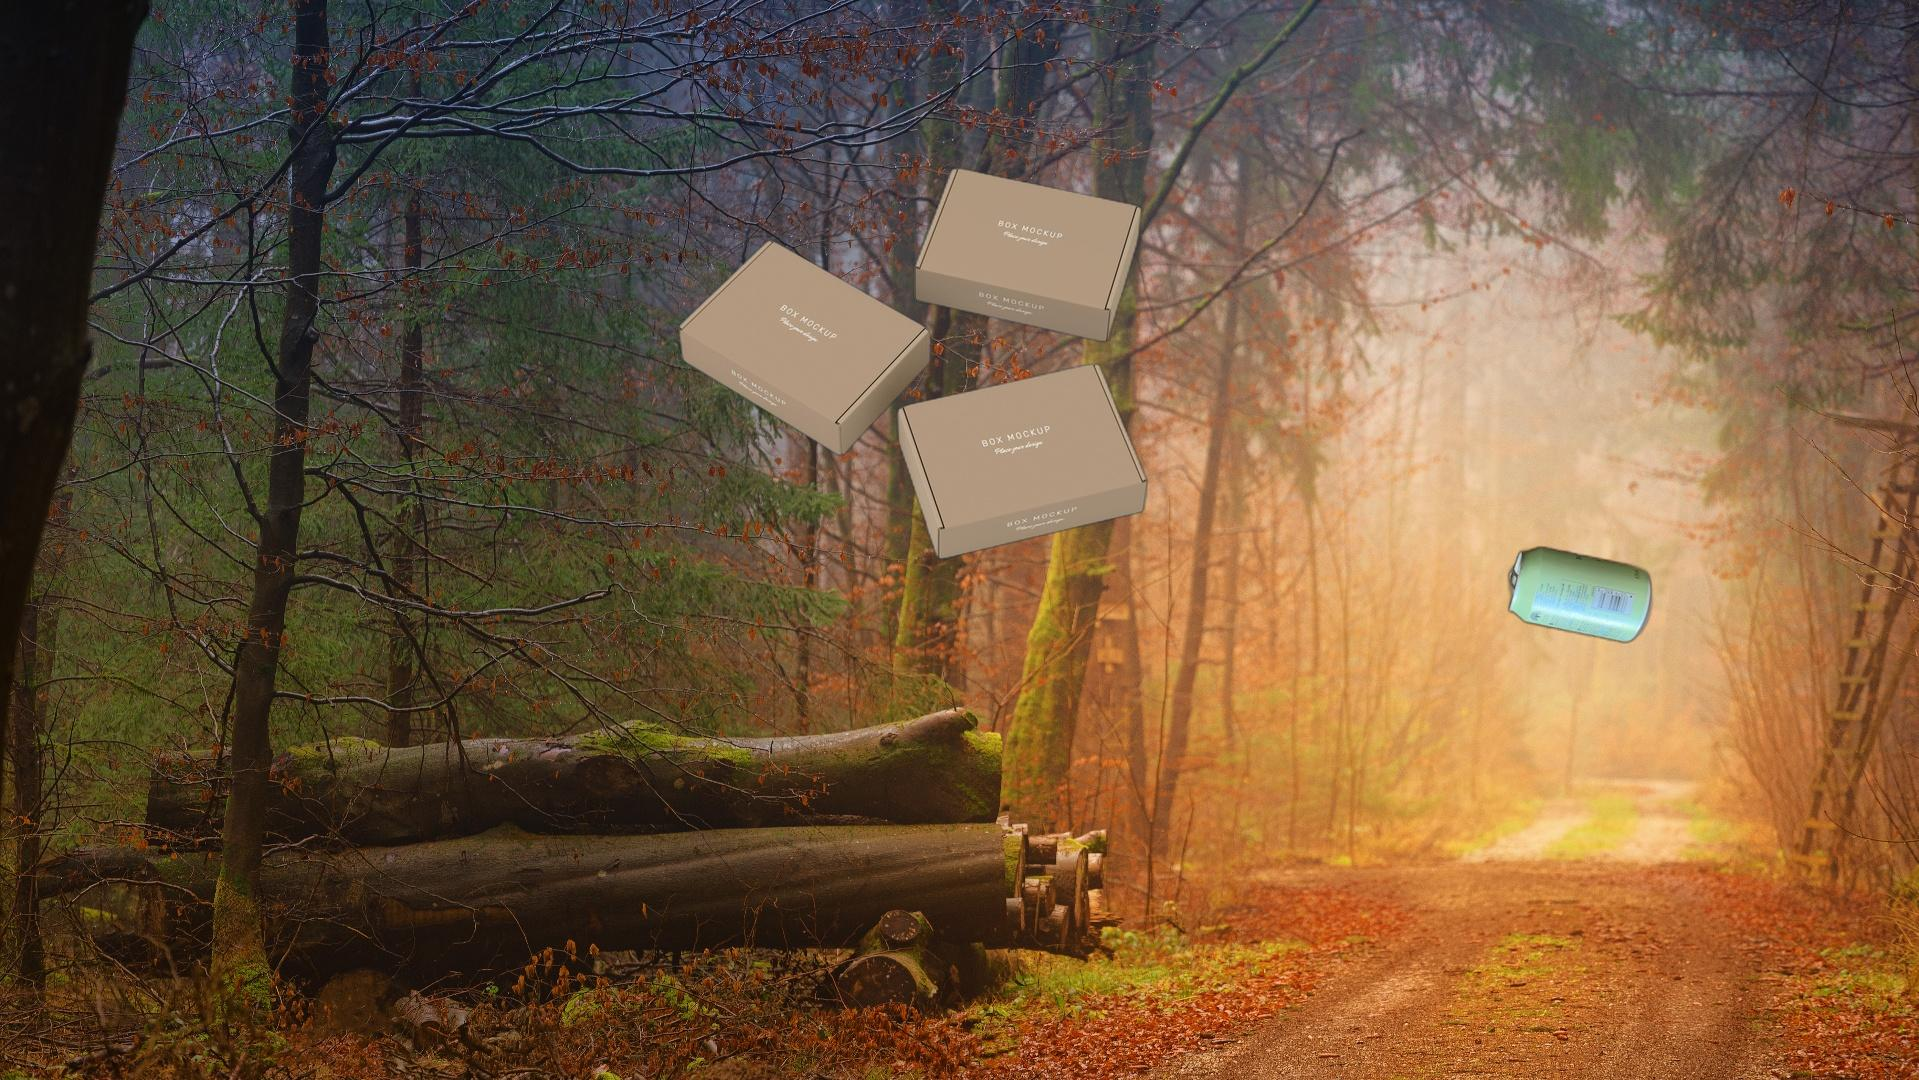metal-cans: (1504, 541, 1655, 647)
trashbox-cardboard: (673, 164, 1153, 563)
